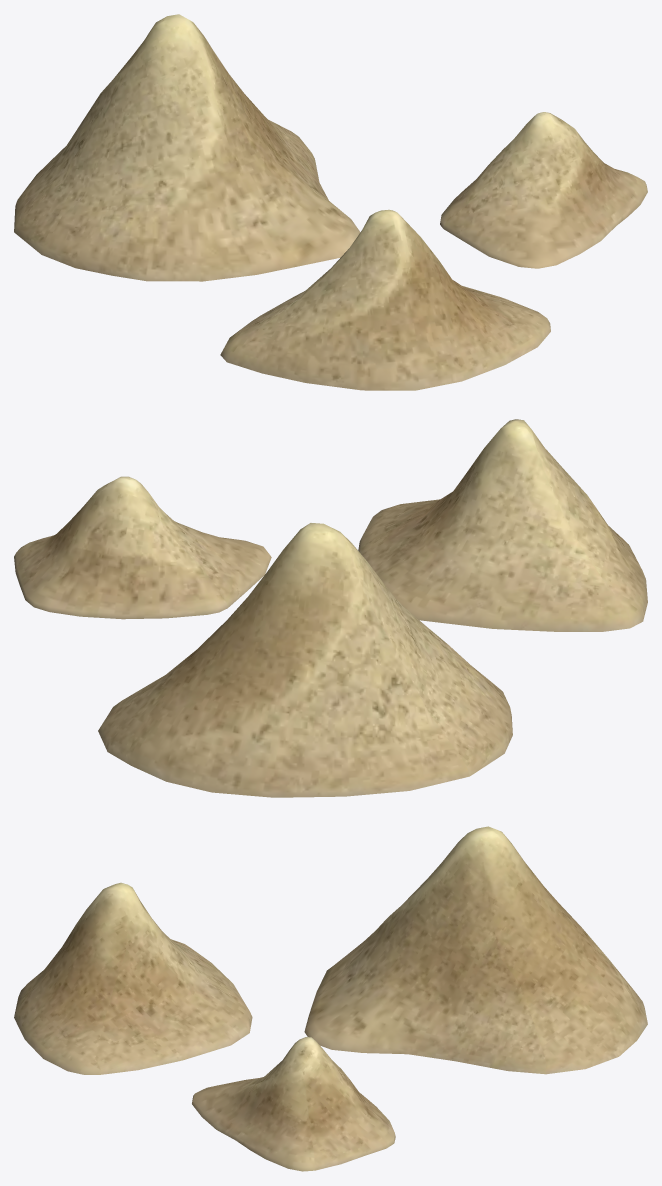
3 views of the same model, one above another, from view 1: azimuth 30°, elevation 25°; view 2: azimuth 150°, elevation 25°; view 3: azimuth 270°, elevation 25° (orthographic). The views are drawn at different scales.
Parts seen in each view (by area): view 1: SM_Sand_01_LOD0; view 2: SM_Sand_01_LOD0; view 3: SM_Sand_01_LOD0.
Part boxes in pixels (x1,y1,x2,y2): SM_Sand_01_LOD0: (14, 14, 647, 390); SM_Sand_01_LOD0: (14, 419, 647, 797); SM_Sand_01_LOD0: (14, 826, 647, 1171).
Bounding box in the file's own units: 0.4043 × 0.1372 × 0.4534.
1 material, 1 textured.
